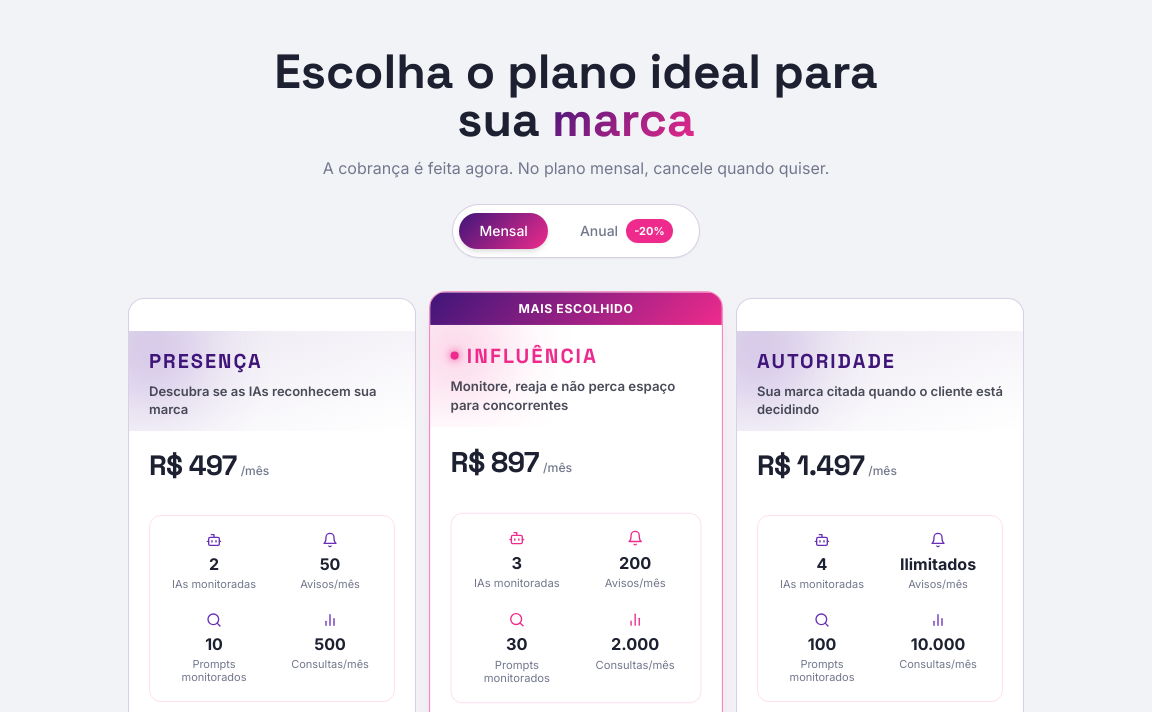
Test: P55 — escolha e confirmação › trial=false, annual=true: explica cobrança e compromisso
Click the button "Anual -20%". click: (626, 231)
box: top-left (560, 211), bottom-right (693, 251)
(page scrolled)
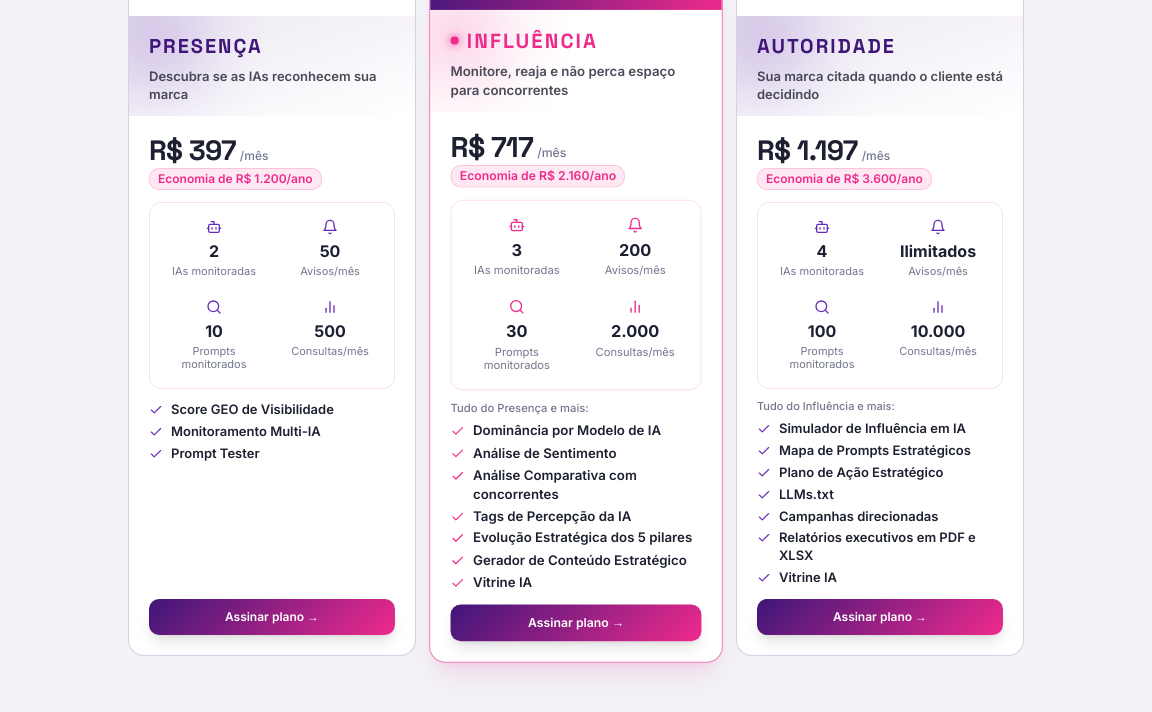
Click the button "Assinar plano →" below "Prompt Tester". click: (272, 617)
box: top-left (149, 599), bottom-right (395, 635)
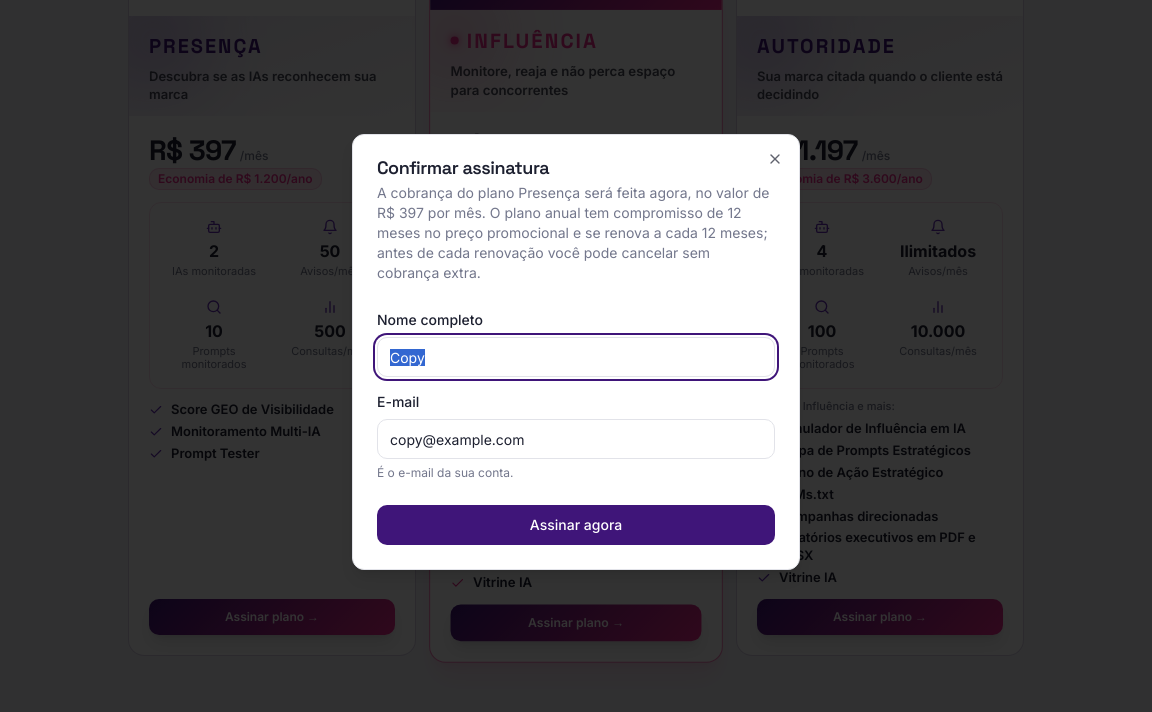
Result: the text "A cobrança do plano Presença será feita agora, no valor de R$ 397 por mês. O plano anual tem compromisso de 12 meses no " is shown at top-left (377, 184), bottom-right (770, 281)
